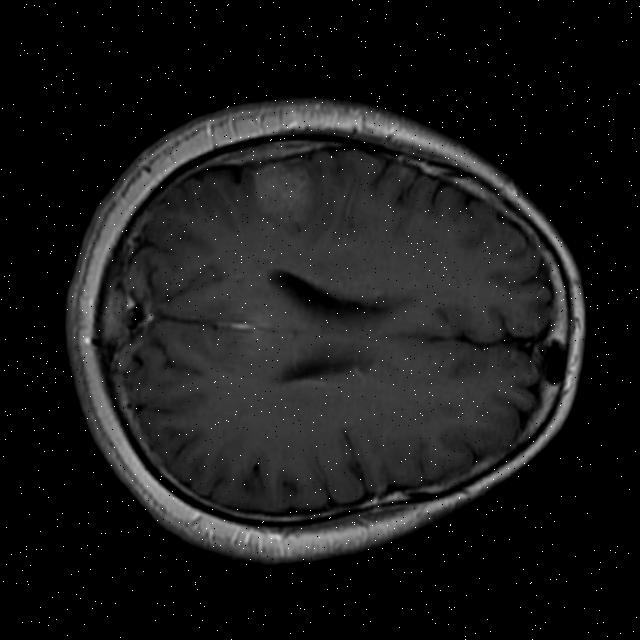Meningioma: (247, 155, 317, 223)
